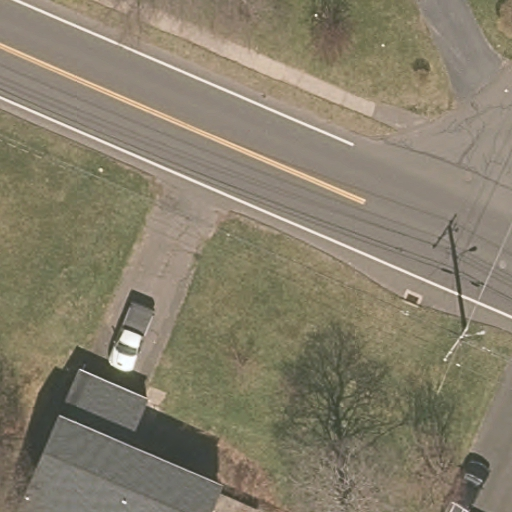DT: (441, 324, 488, 363)
